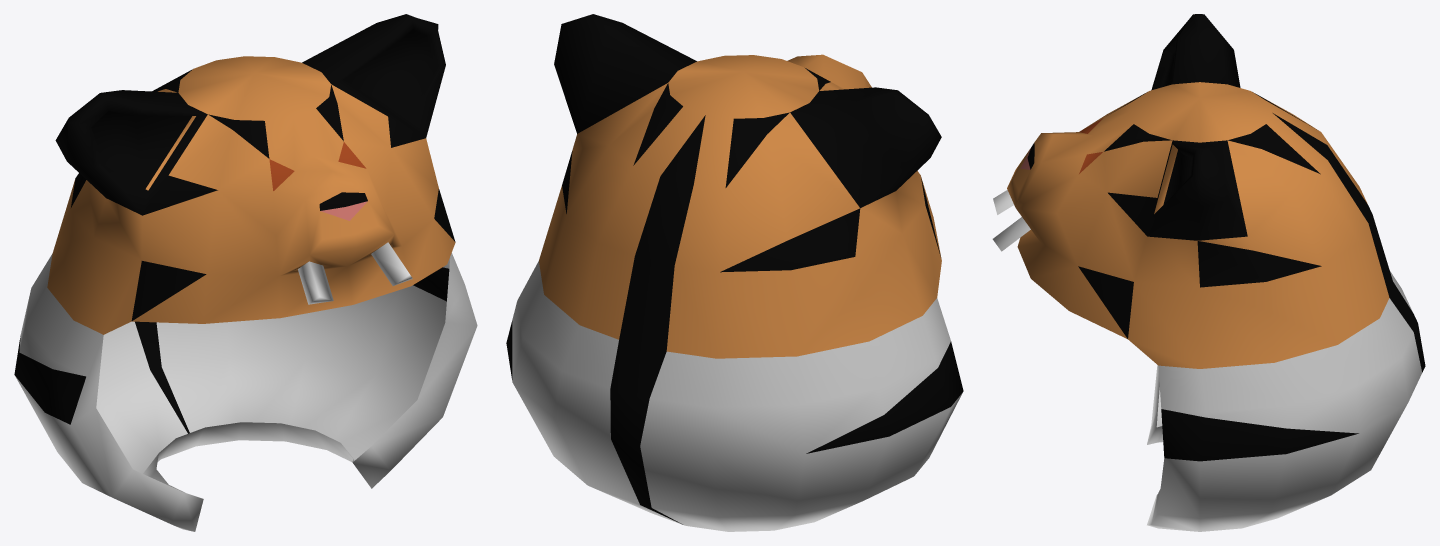
The model's file is TigerHead.fbx.
3 views of the same model, side by side, from view 1: azimuth 30°, elevation 25°; view 2: azimuth 150°, elevation 25°; view 3: azimuth 270°, elevation 25° (orthographic). The views are drawn at different scales.
Parts seen in each view (by area): view 1: Head_1; view 2: Head_1; view 3: Head_1.
Boxes of the visible parts, x1,y1,x2,y2 form: Head_1: [14, 14, 477, 531]; Head_1: [506, 14, 963, 531]; Head_1: [992, 14, 1425, 531].
Size of the model in its own units: 249 by 247 by 239.
